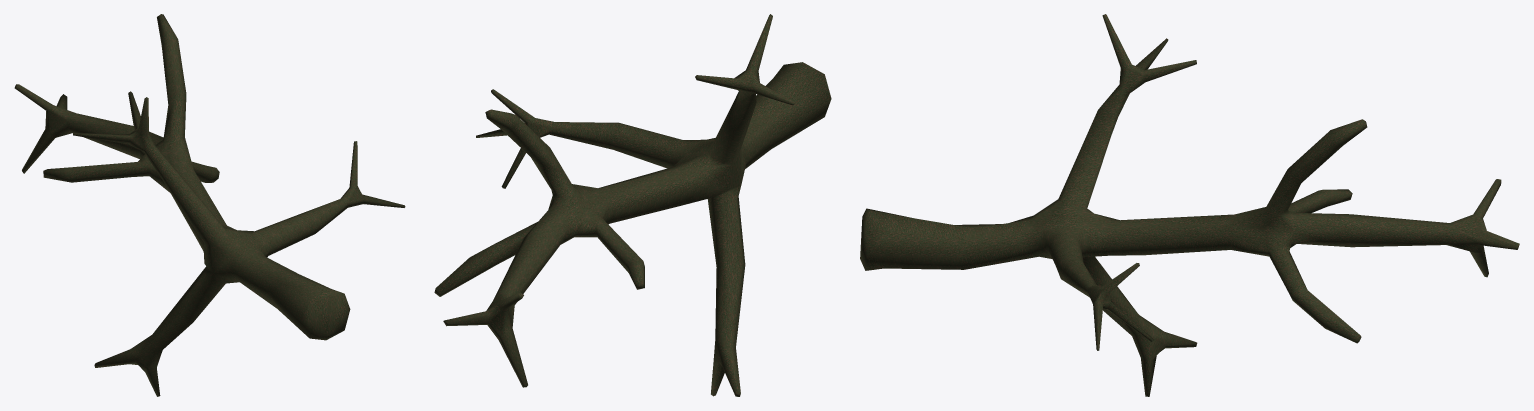
File: SwampTree2Empty.fbx
3 renders of one model, left to right at view 1: azimuth 30°, elevation 25°; view 2: azimuth 150°, elevation 25°; view 3: azimuth 270°, elevation 25°, orthographic. The views are drawn at different scales.
Visible parts, largest first — view 1: SwampTree2Empty; view 2: SwampTree2Empty; view 3: SwampTree2Empty.
Part boxes in pixels (left/top/right/bottom): SwampTree2Empty: left=14, top=14, right=405, bottom=396; SwampTree2Empty: left=434, top=14, right=831, bottom=396; SwampTree2Empty: left=860, top=14, right=1519, bottom=396.
Bounding box in the file's own units: 3327 × 3366 × 5498.
